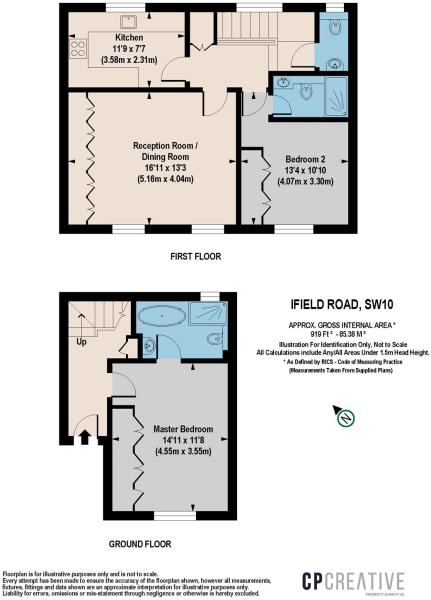GrossArea: (286, 317, 401, 340)
